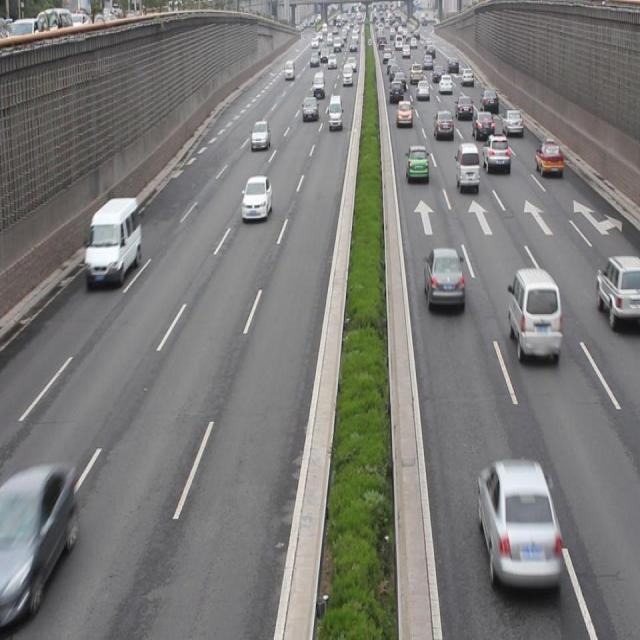car: (477, 461, 560, 588), (0, 466, 74, 600), (594, 251, 640, 326), (423, 247, 463, 312), (240, 175, 272, 222), (482, 135, 508, 176), (533, 139, 560, 177), (404, 144, 428, 183), (472, 109, 492, 141), (432, 111, 453, 140), (250, 120, 270, 148), (501, 110, 522, 136)
truck: (506, 269, 559, 365), (86, 196, 141, 284), (454, 143, 478, 194)
